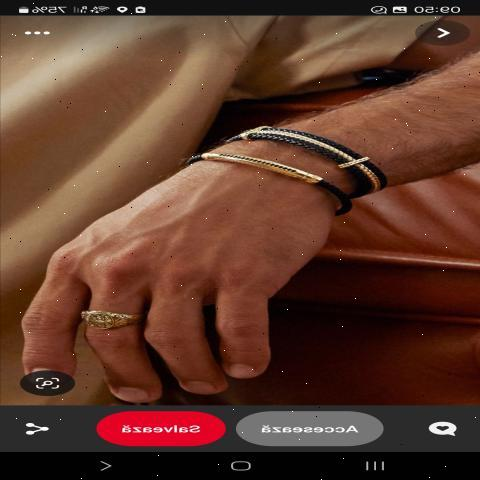Hands: (14, 138, 400, 406)
